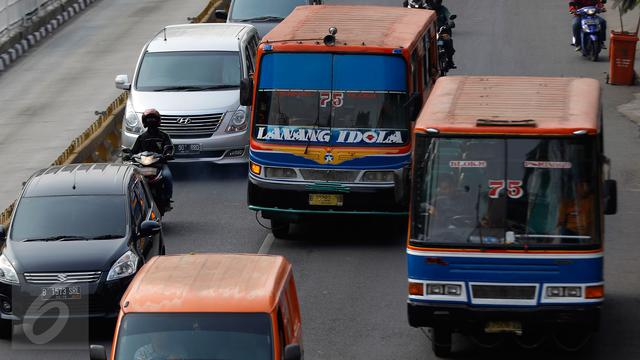plate: (42, 287, 78, 301), (487, 318, 519, 330), (309, 195, 339, 206), (171, 143, 198, 152), (138, 167, 156, 175), (584, 19, 599, 24)
